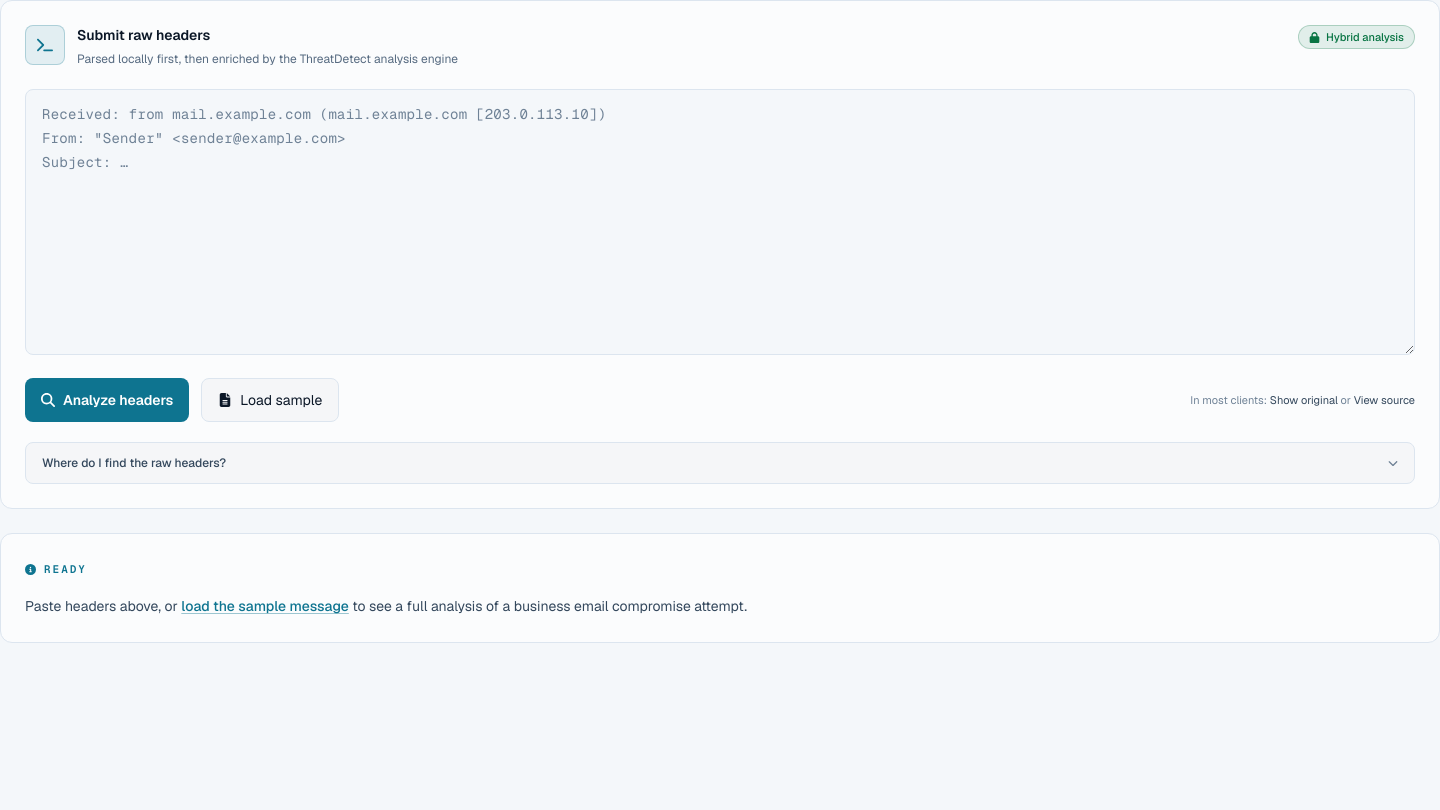
Test: HeaderAnalyzer › reports an error for input that is not an email
Type "just some prose" into the text box named "raw email headers" at (720, 222), box [25,89,1415,355]
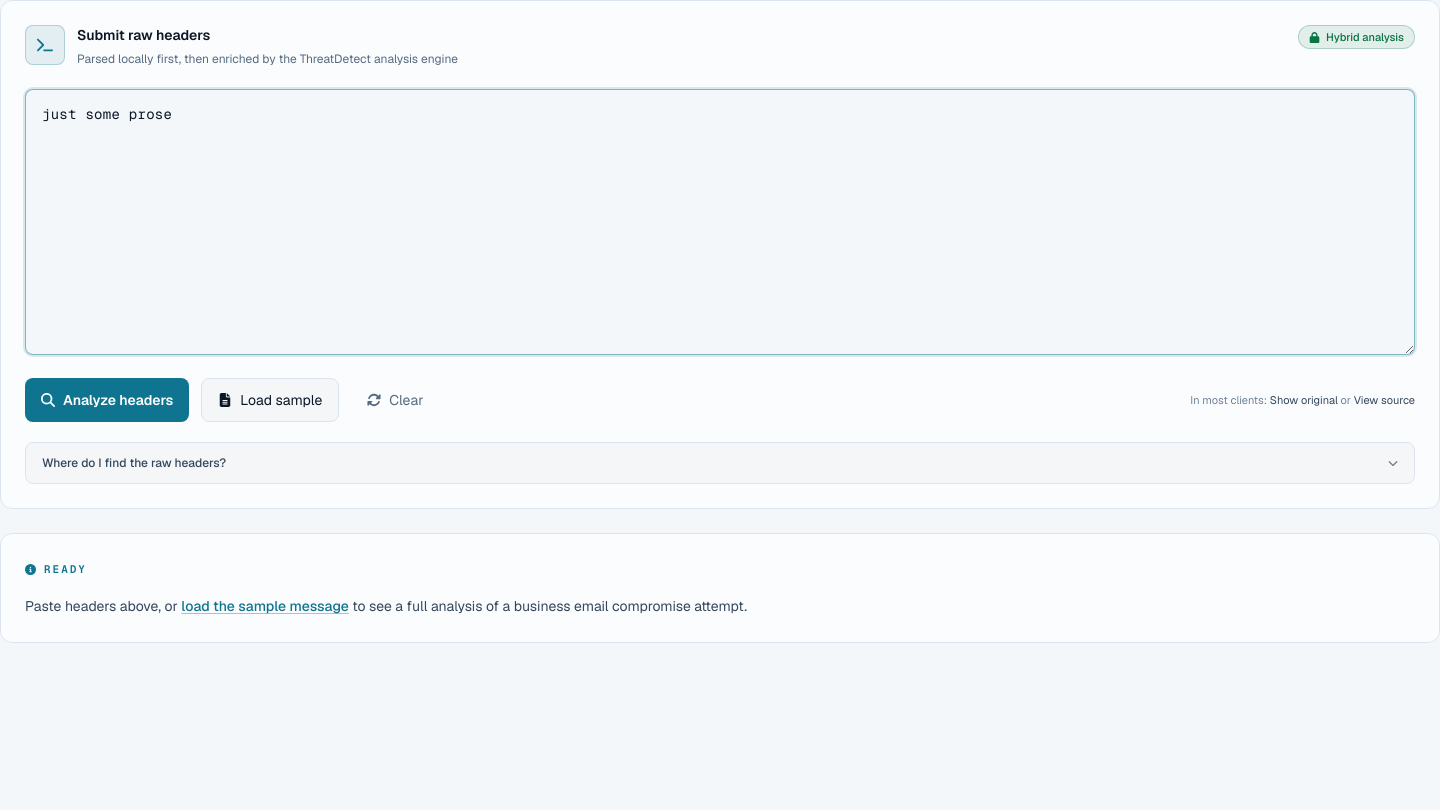
Click the button "Analyze headers" at (107, 400), box [25,378,189,422]
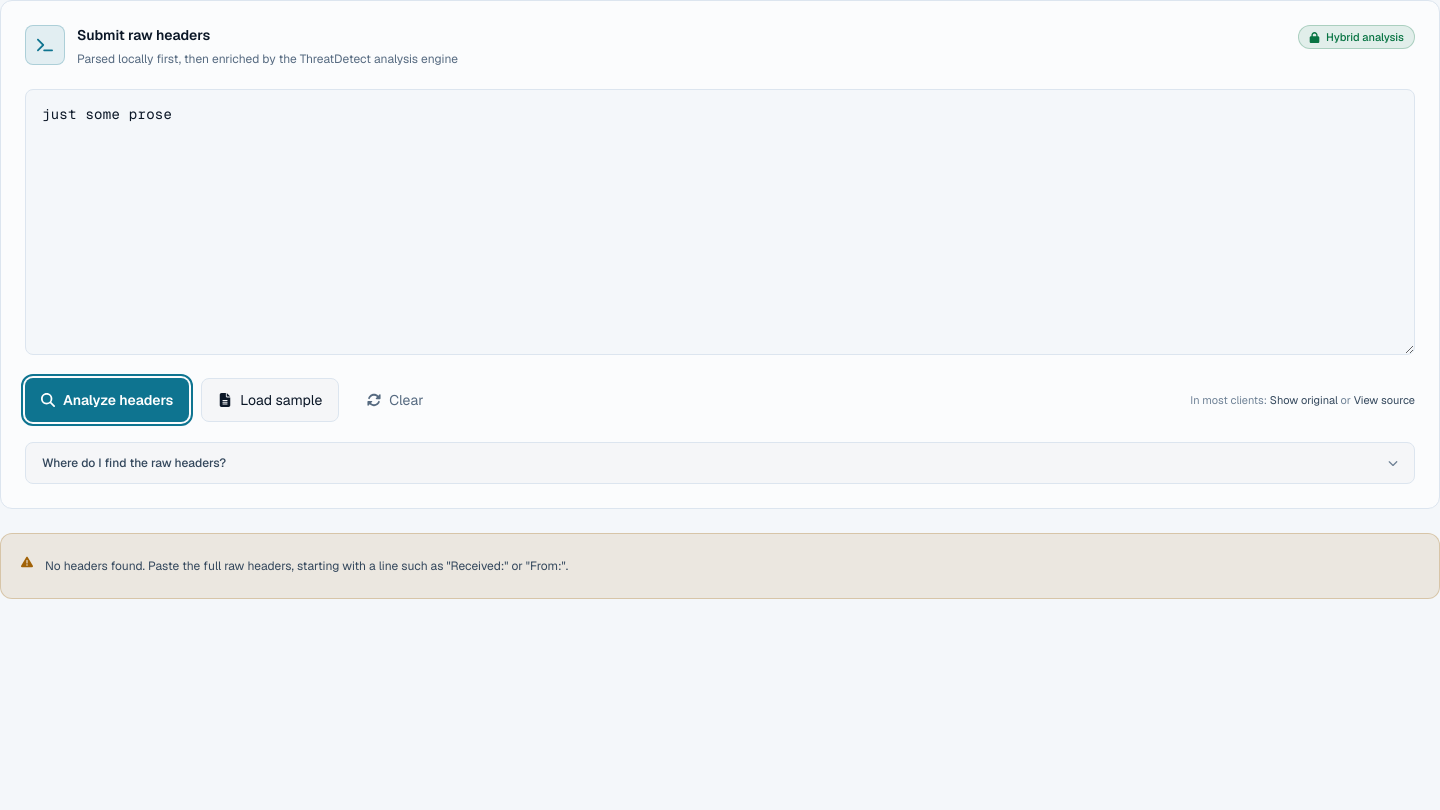
Expected: the text "No headers found" is shown, [45,558,568,574]
